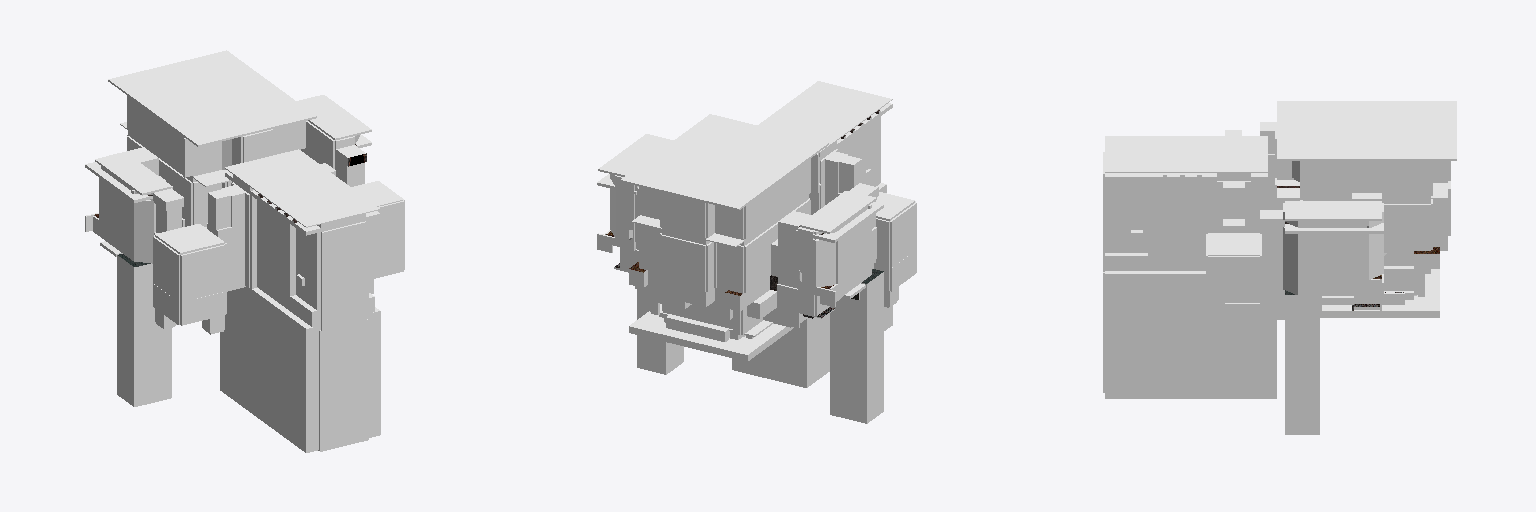
3 views of the same model, side by side, from view 1: azimuth 30°, elevation 25°; view 2: azimuth 150°, elevation 25°; view 3: azimuth 270°, elevation 25° (orthographic).
Visible parts, largest first — view 1: entity0_brush198, entity0_brush240, entity0_brush177, entity0_brush324, entity0_brush148, entity0_brush42, entity0_brush244, entity0_brush1317, entity0_brush1304, entity0_brush222, entity0_brush231, entity0_brush740 (+25 smaller); view 2: entity0_brush198, entity0_brush177, entity0_brush324, entity0_brush244, entity0_brush622, entity0_brush1317, entity0_brush125, entity0_brush562, entity0_brush740, entity0_brush231, entity0_brush222, entity0_brush304 (+19 smaller); view 3: entity0_brush242, entity0_brush198, entity0_brush324, entity0_brush125, entity0_brush1318, entity0_brush244, entity0_brush219, entity0_brush1295, entity0_brush1758, entity0_brush1752, entity0_brush222, entity0_brush38 (+17 smaller).
Part boxes in pixels (bbox=[...]): entity0_brush198: bbox=[108, 50, 316, 146]; entity0_brush240: bbox=[250, 304, 318, 452]; entity0_brush177: bbox=[117, 254, 171, 406]; entity0_brush324: bbox=[225, 149, 380, 227]; entity0_brush148: bbox=[318, 319, 368, 451]; entity0_brush42: bbox=[321, 221, 366, 310]; entity0_brush244: bbox=[220, 287, 249, 411]; entity0_brush1317: bbox=[127, 96, 184, 168]; entity0_brush1304: bbox=[296, 229, 320, 310]; entity0_brush222: bbox=[297, 95, 371, 140]; entity0_brush231: bbox=[95, 152, 171, 195]; entity0_brush740: bbox=[99, 178, 133, 245]; entity0_brush198: bbox=[620, 114, 828, 210]; entity0_brush177: bbox=[830, 269, 883, 423]; entity0_brush324: bbox=[757, 81, 892, 153]; entity0_brush244: bbox=[732, 313, 829, 387]; entity0_brush622: bbox=[629, 304, 805, 359]; entity0_brush1317: bbox=[744, 158, 810, 238]; entity0_brush125: bbox=[637, 289, 683, 374]; entity0_brush562: bbox=[660, 192, 705, 237]; entity0_brush740: bbox=[836, 217, 871, 283]; entity0_brush231: bbox=[800, 191, 876, 233]; entity0_brush222: bbox=[598, 134, 673, 176]; entity0_brush304: bbox=[616, 184, 634, 242]; entity0_brush242: bbox=[1105, 290, 1216, 398]; entity0_brush198: bbox=[1277, 101, 1456, 160]; entity0_brush324: bbox=[1105, 136, 1267, 172]; entity0_brush125: bbox=[1285, 290, 1319, 434]; entity0_brush1318: bbox=[1303, 161, 1430, 196]; entity0_brush244: bbox=[1217, 320, 1276, 398]; entity0_brush219: bbox=[1298, 234, 1368, 279]; entity0_brush1295: bbox=[1105, 181, 1147, 252]; entity0_brush1758: bbox=[1148, 210, 1214, 239]; entity0_brush1752: bbox=[1148, 181, 1214, 209]; entity0_brush222: bbox=[1285, 201, 1381, 220]; entity0_brush38: bbox=[1105, 271, 1205, 289].
Bounding box in the file's own units: 1024 × 1040 × 1320.
68 materials, 50 textured.